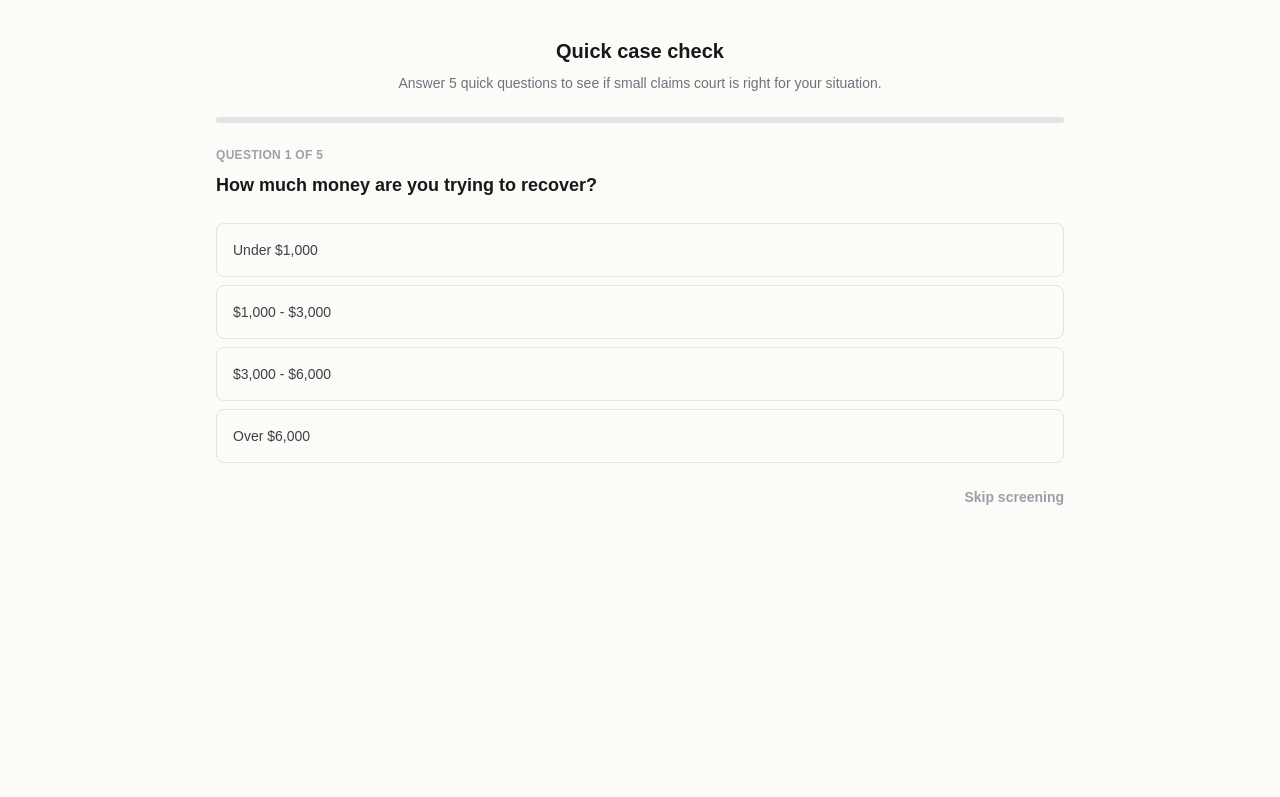
Test: Error path integration tests › shows error when addParty fails
Click the button "Skip screening": [1014, 497] box [964,487,1064,507]
(page scrolled)
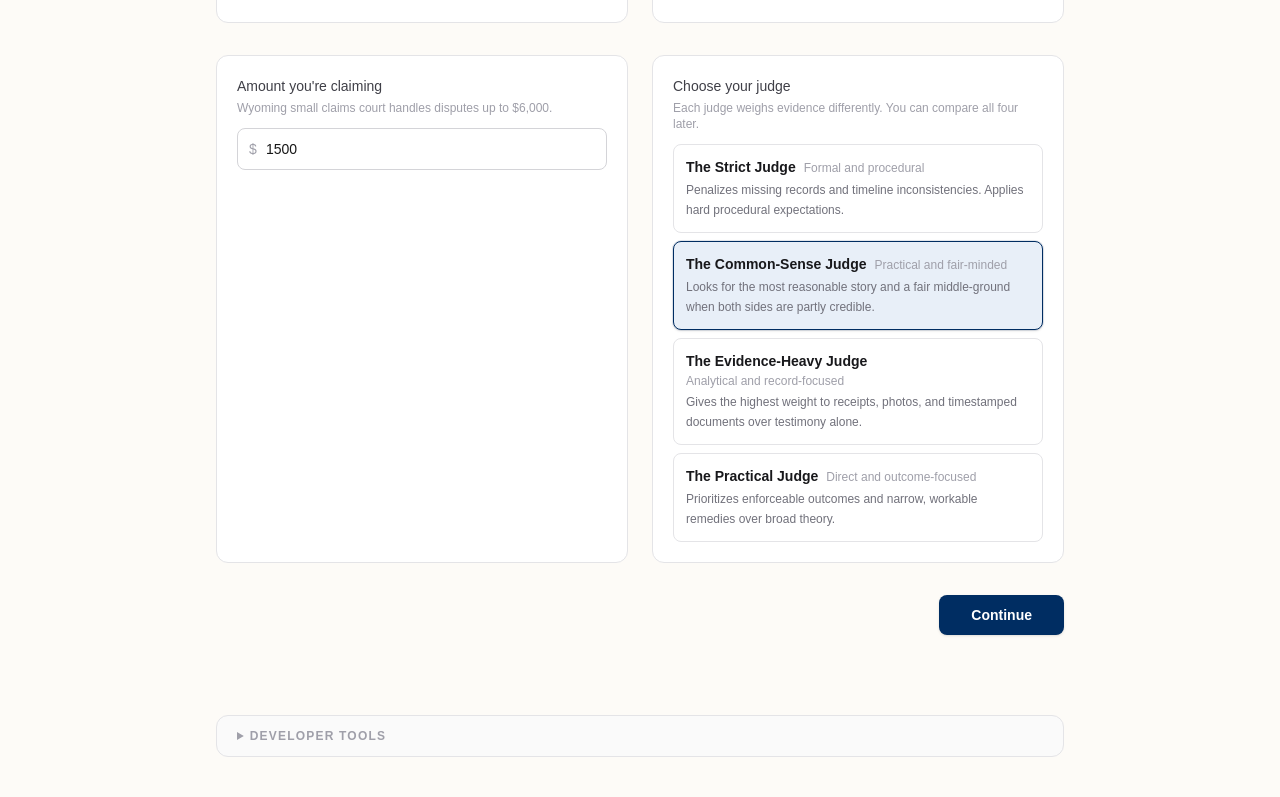
Click the button "Continue": [1002, 615] box [939,595,1064,635]
(page scrolled)
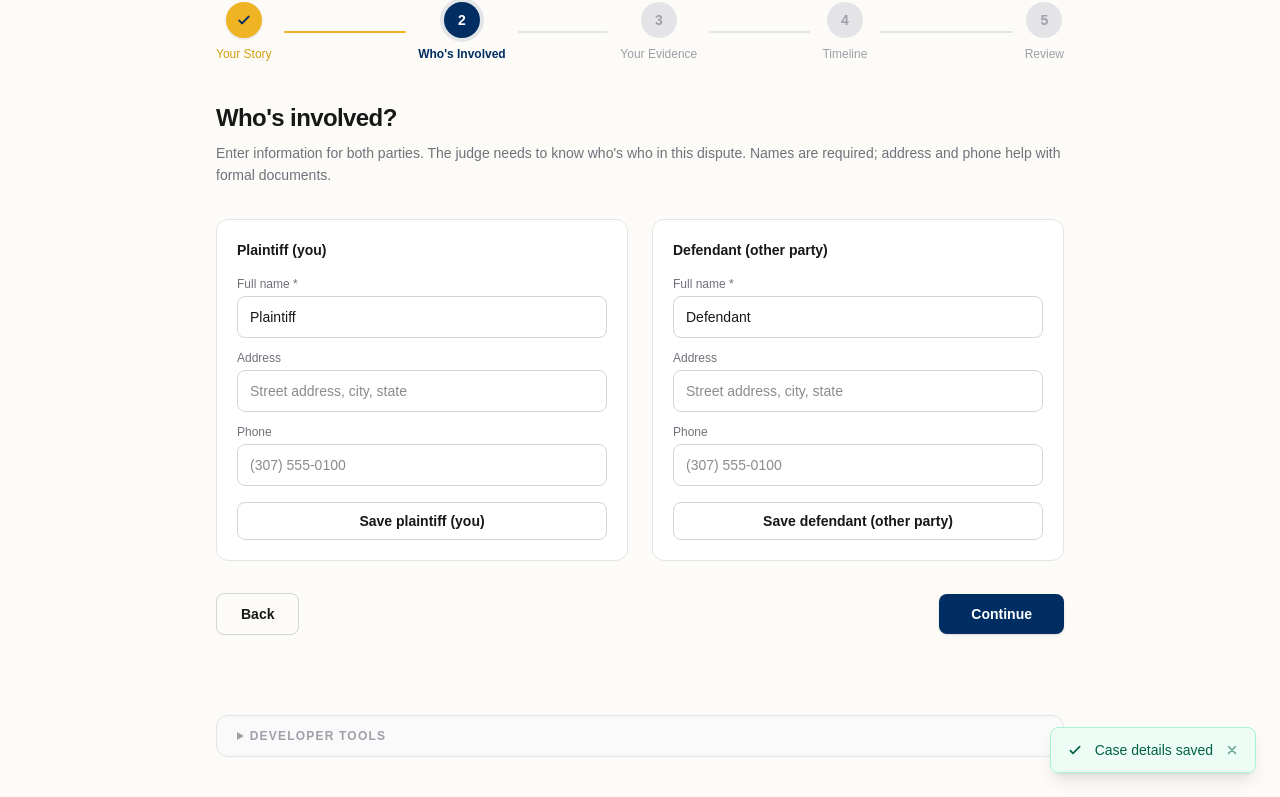
Click the button "Save plaintiff (you)": [422, 521] box [237,502,607,540]
(page scrolled)
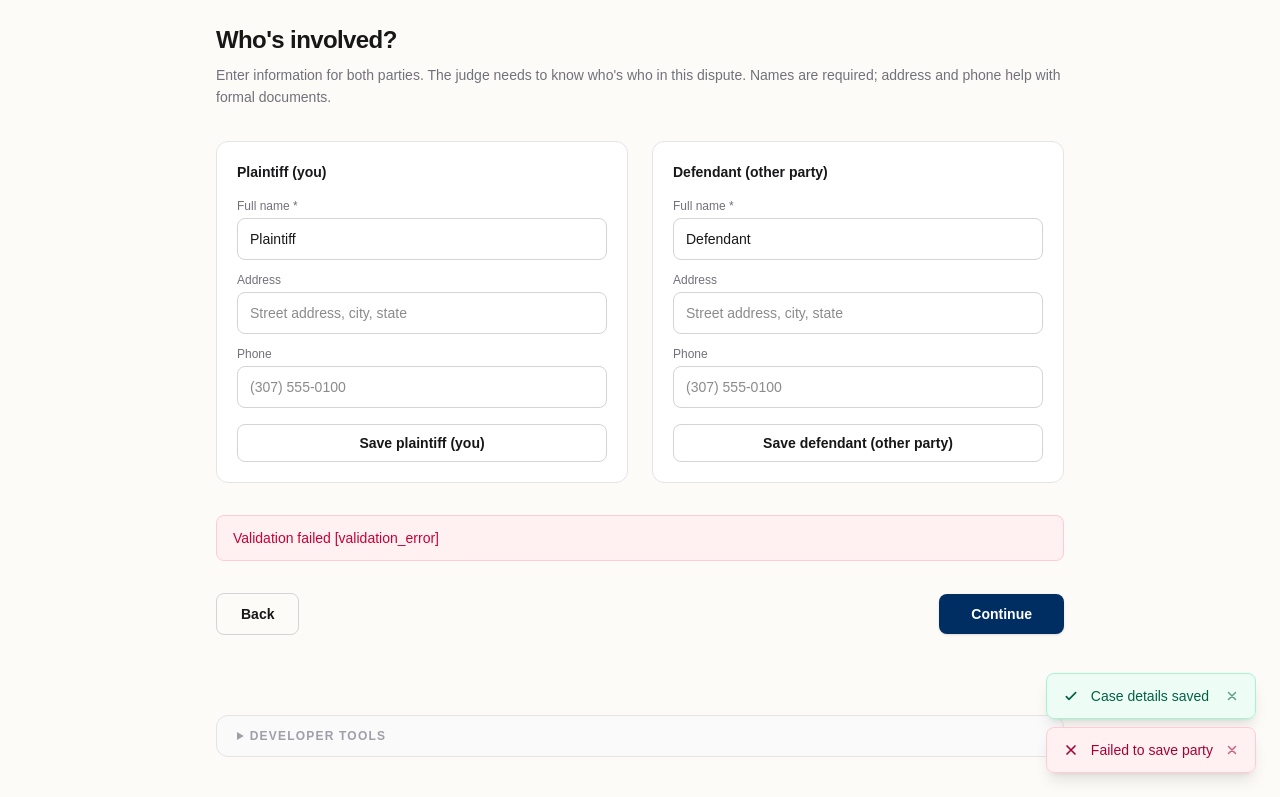
Now the text "Validation failed [validation_error]" is shown, box [216,515,1064,561]
